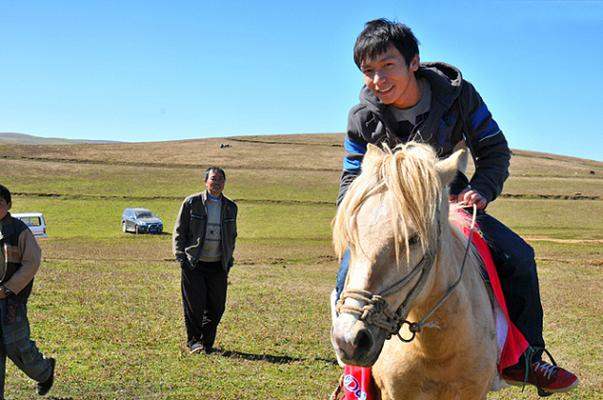person: (334, 18, 582, 394)
